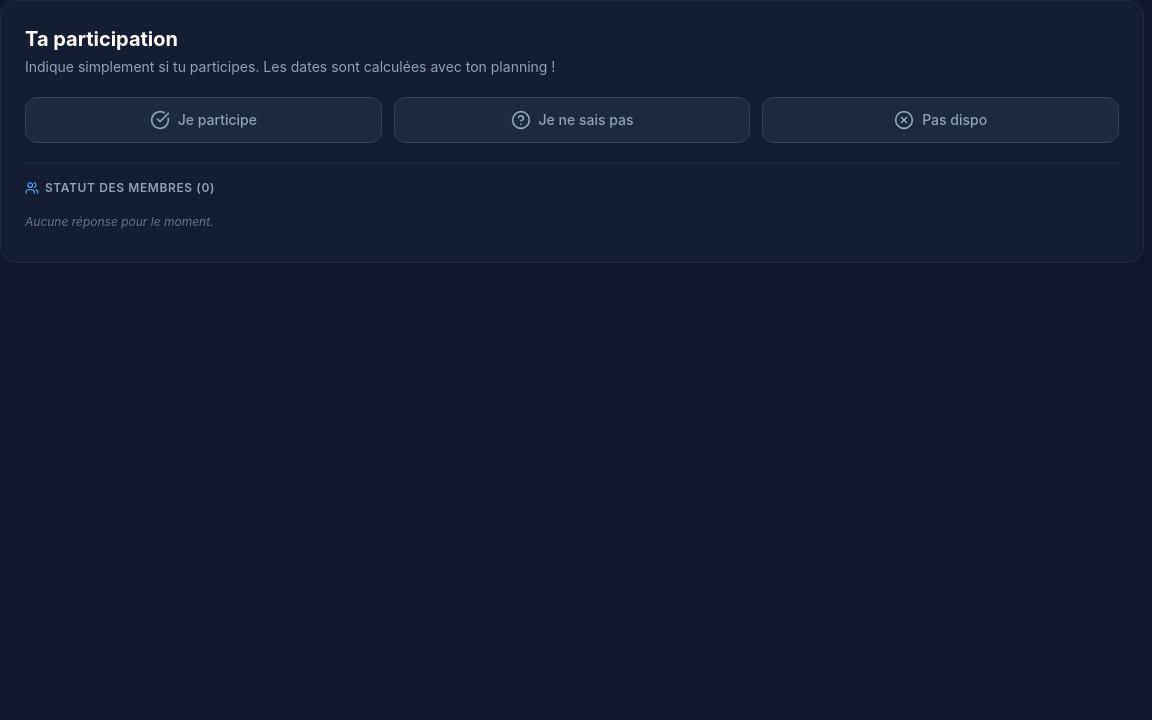
UserAvailabilityForm › allows selecting "Je ne sais pas" and updates member status immediately
This screenshot has width=1152, height=720.
Click the button "Je ne sais pas" at (572, 120), box [394,97,750,143]
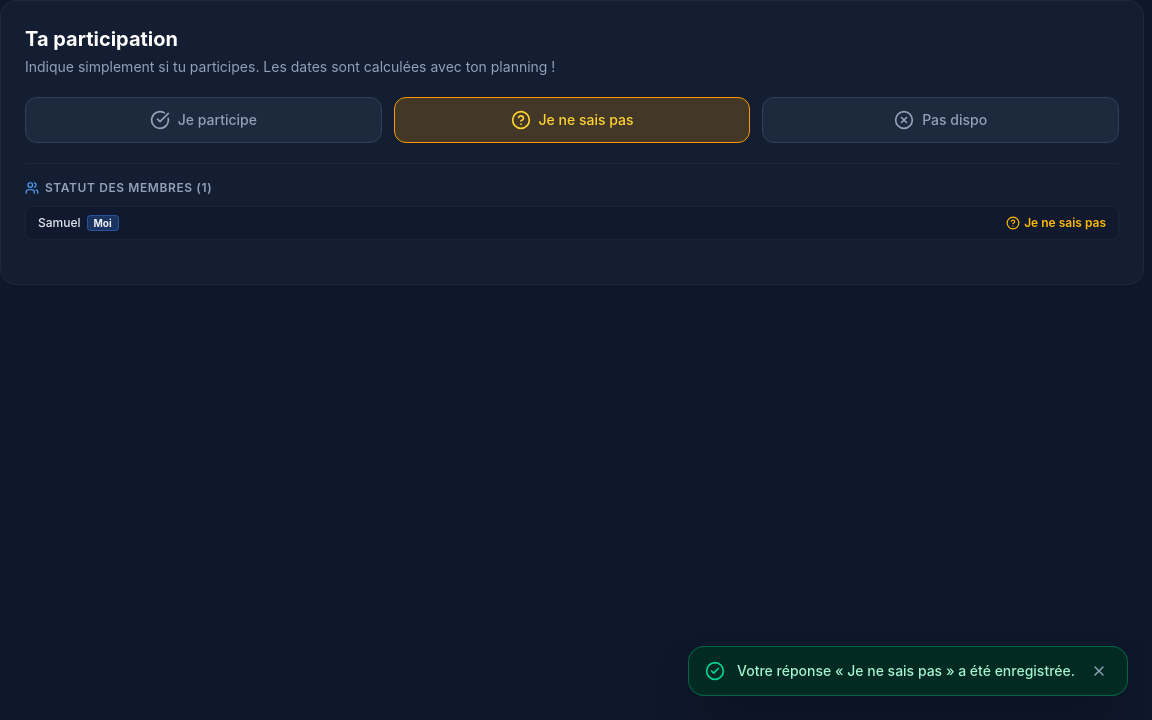
Check: the text "Statut des membres (1)" is shown, box [45,180,212,196]
Check: the text "Samuel" is shown, box [38,215,80,231]
